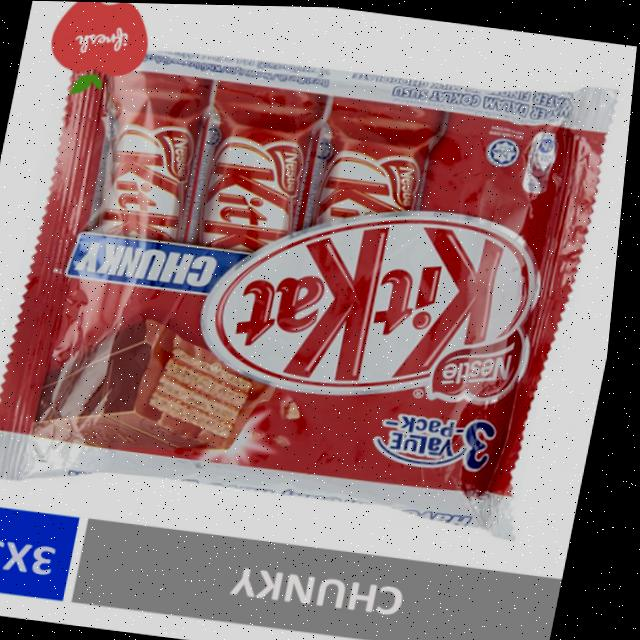kitkat: (0, 23, 609, 534)
